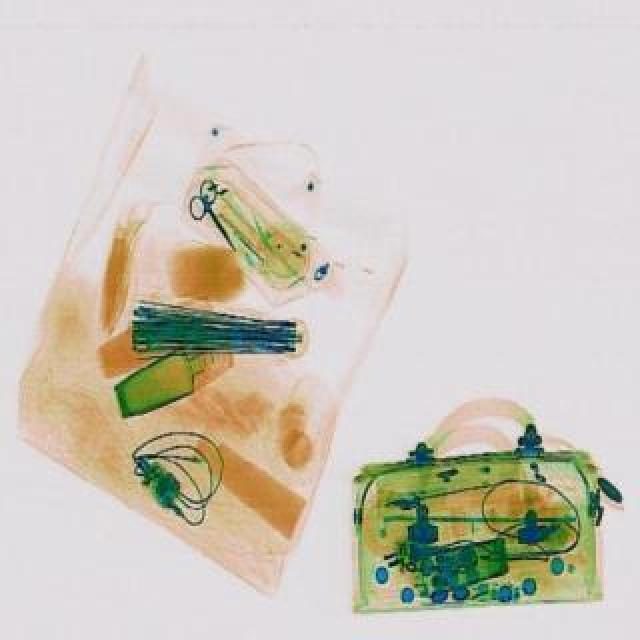pliers: (180, 174, 254, 258)
